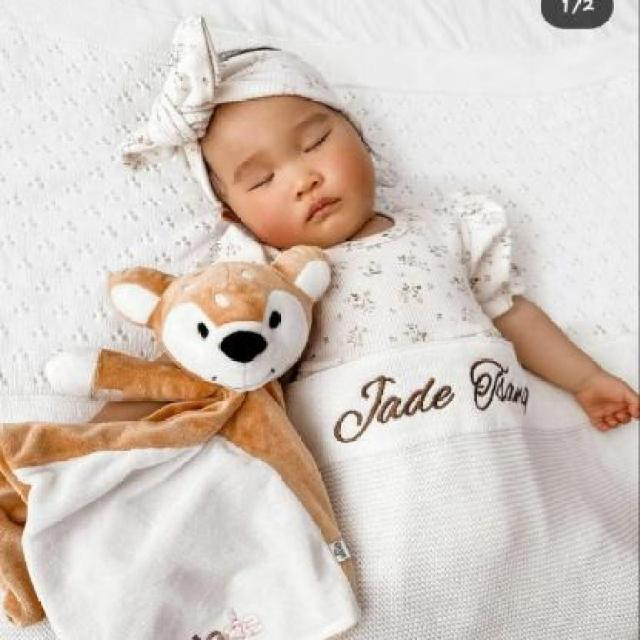baby: (146, 44, 637, 450)
